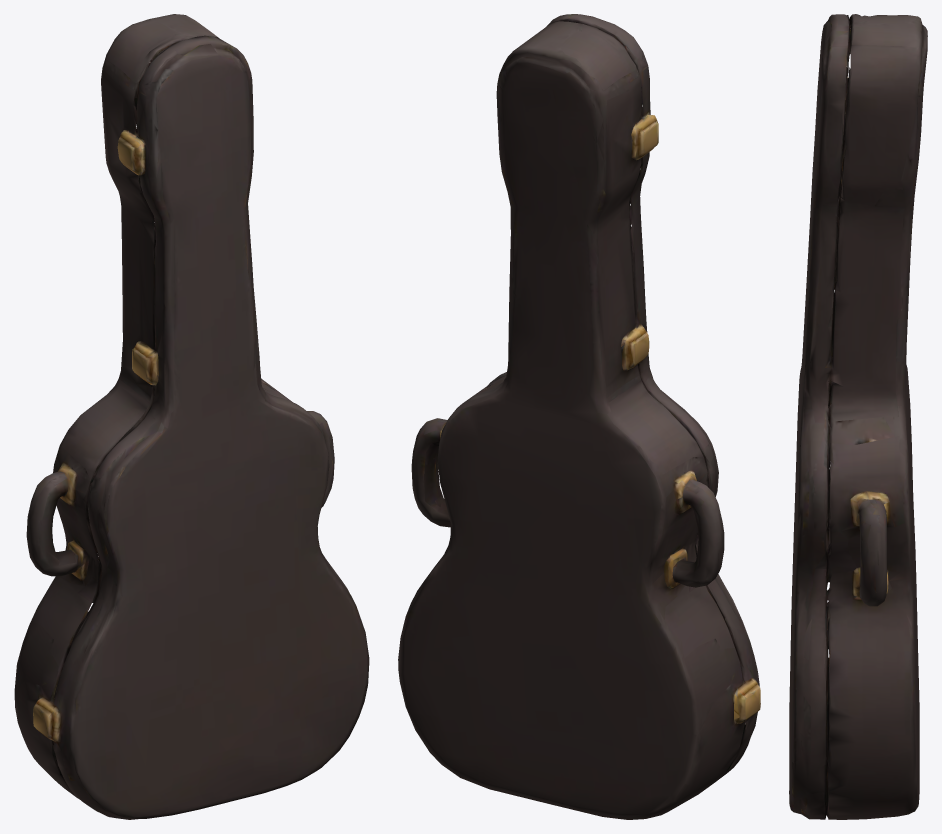
The model's file is guitar_case.glb.
3 renders of one model, left to right at view 1: azimuth 30°, elevation 25°; view 2: azimuth 150°, elevation 25°; view 3: azimuth 270°, elevation 25°, orthographic.
Visible parts, largest first — view 1: guitar_case; view 2: guitar_case; view 3: guitar_case.
Part boxes in pixels (x1,y1,x2,y2): guitar_case: (14,14,369,819); guitar_case: (398,14,760,819); guitar_case: (789,14,927,819).
Bounding box in the file's own units: 0.2713 × 0.62 × 0.103.
Materials: 1 (1 with a texture image).
